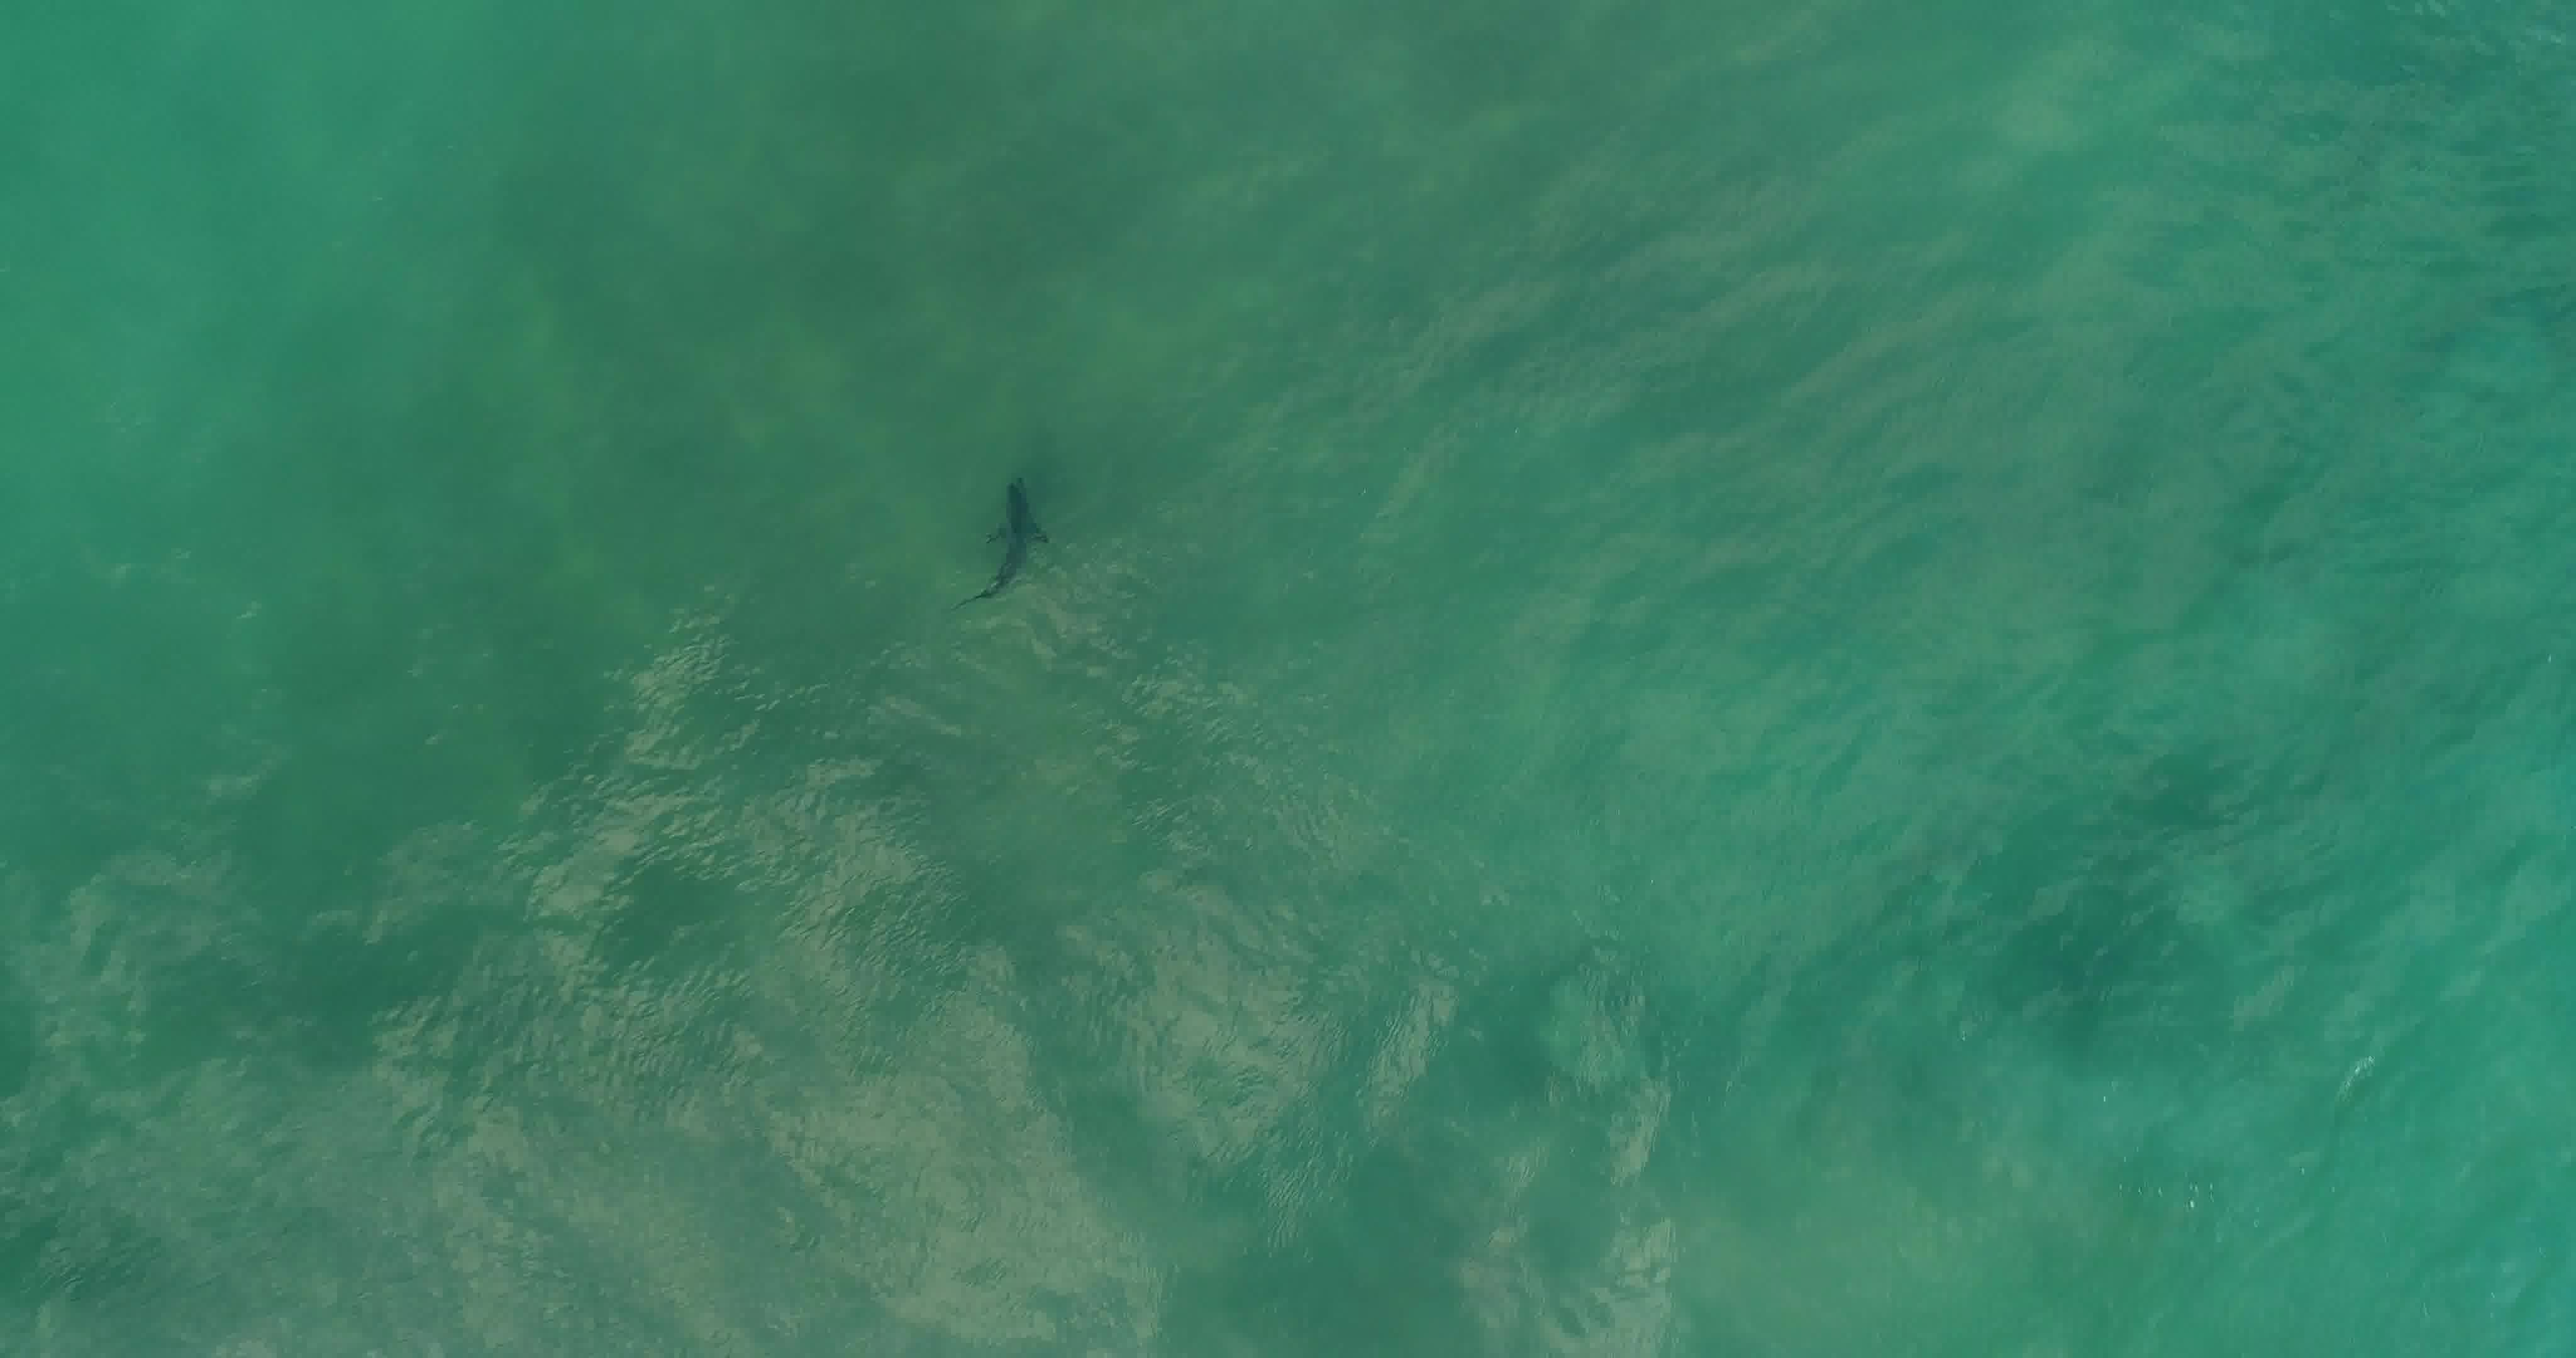shark: (949, 470, 1060, 615)
